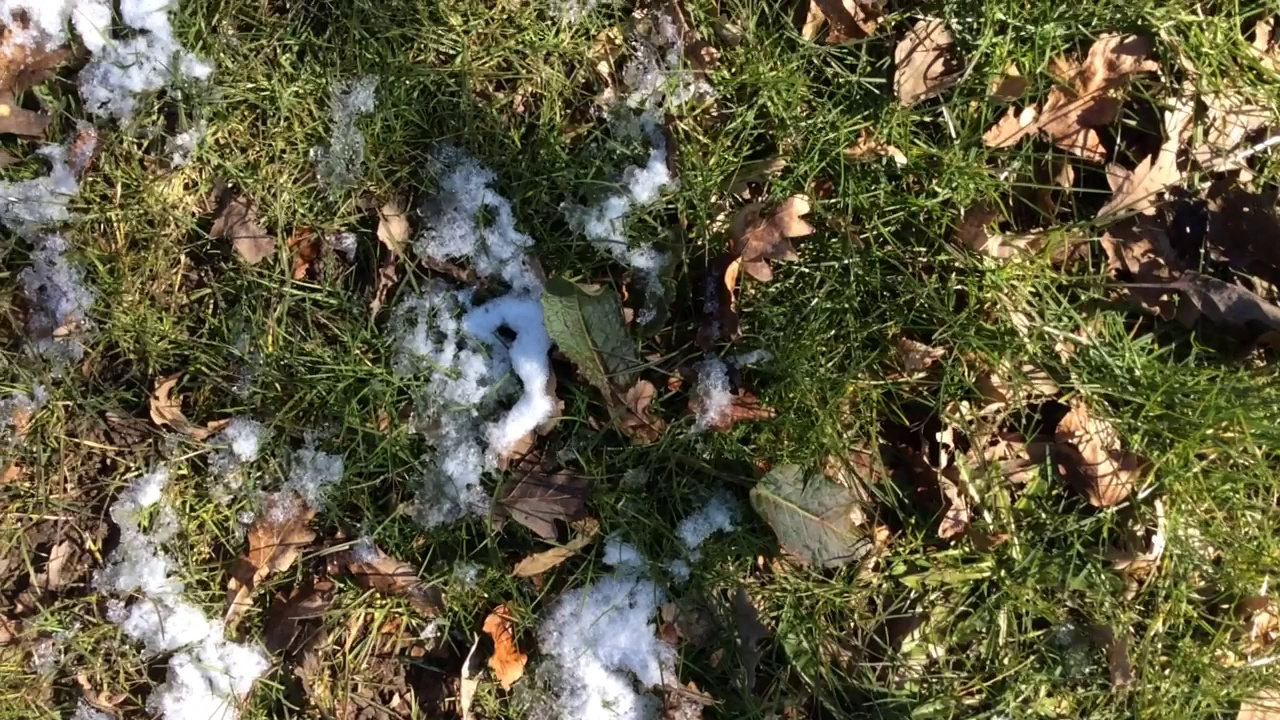root: (651, 412, 721, 481)
rumex: (542, 271, 882, 564)
